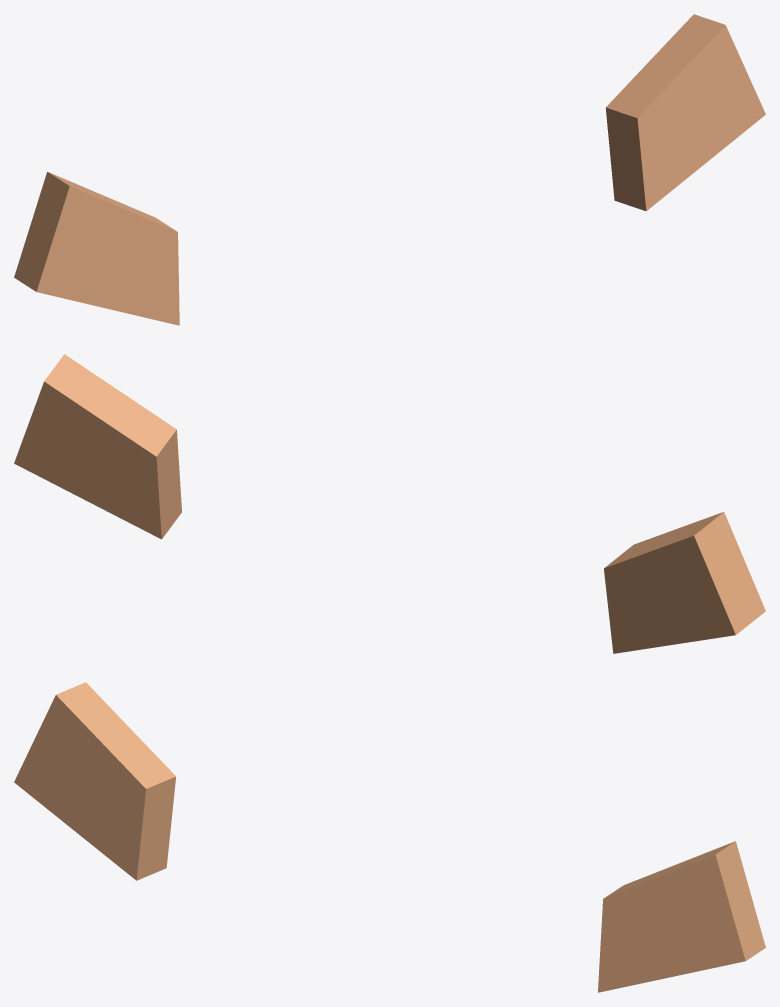
Rendered from ears.fbx.
The picture shows the model from 3 angles, top to bottom: view 1: azimuth 30°, elevation 25°; view 2: azimuth 150°, elevation 25°; view 3: azimuth 330°, elevation 25°; orthographic projection.
Visible parts, largest first — view 1: ears; view 2: ears; view 3: ears.
Part boxes in pixels (bbox=[...]): ears: bbox=[14, 14, 765, 325]; ears: bbox=[14, 354, 765, 653]; ears: bbox=[14, 682, 765, 992].
Bounding box in the file's own units: 45.38 × 9.37 × 4.87.
